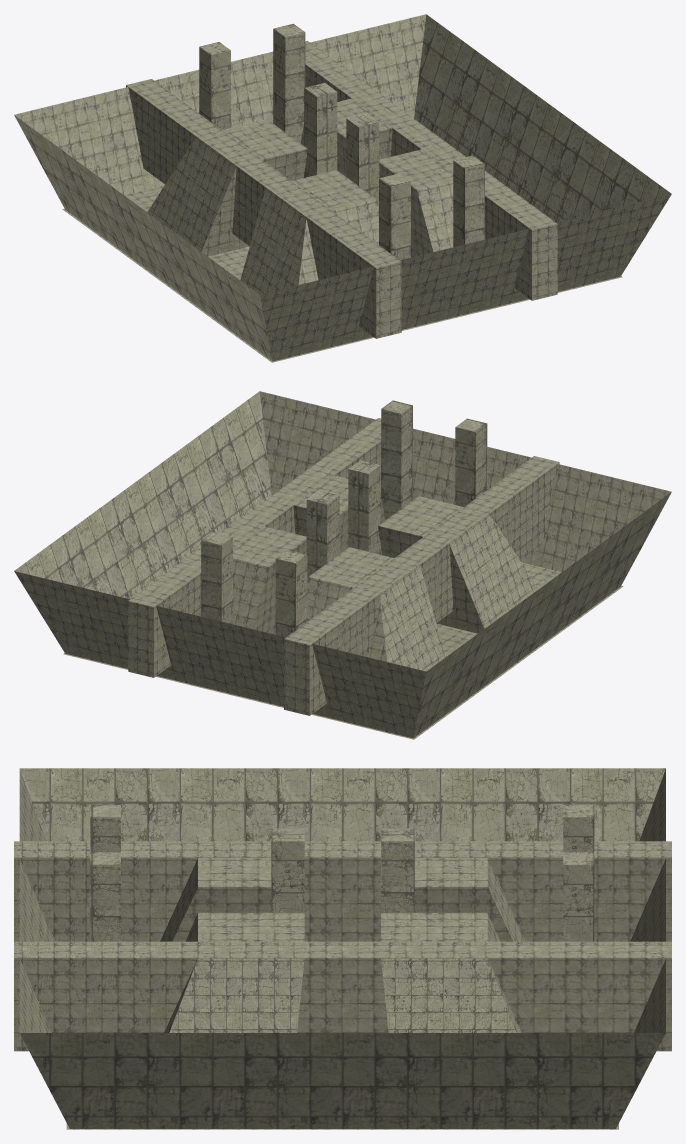
File: SM_LDFest_02.fbx
The picture shows the model from 3 angles, top to bottom: view 1: azimuth 30°, elevation 25°; view 2: azimuth 150°, elevation 25°; view 3: azimuth 270°, elevation 25°; orthographic projection. The views are drawn at different scales.
Visible parts, largest first — view 1: SM_LDFest_02; view 2: SM_LDFest_02; view 3: SM_LDFest_02.
Part boxes in pixels (x1,y1,x2,y2): SM_LDFest_02: [14, 14, 671, 362]; SM_LDFest_02: [14, 391, 671, 739]; SM_LDFest_02: [14, 768, 671, 1129].
Bounding box in the file's own units: 4198 × 1497 × 4409.
